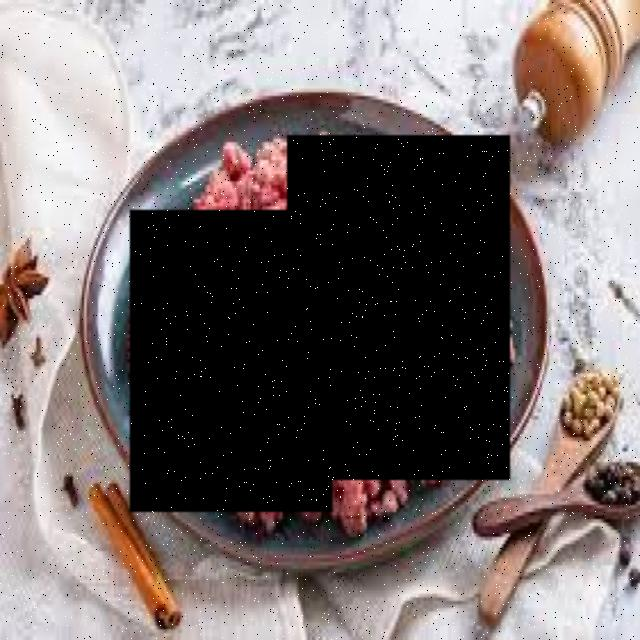Minced_Meat: (289, 136, 512, 481), (132, 213, 334, 515)
